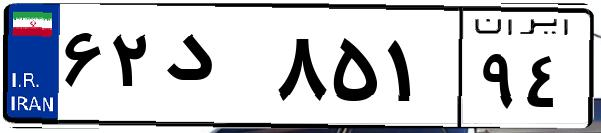1: (385, 28, 445, 110)
2: (110, 28, 158, 98)
4: (525, 38, 570, 115)
5: (330, 28, 385, 110)
6: (57, 26, 110, 100)
8: (270, 28, 330, 110)
9: (475, 38, 525, 113)
د: (158, 20, 270, 120)
